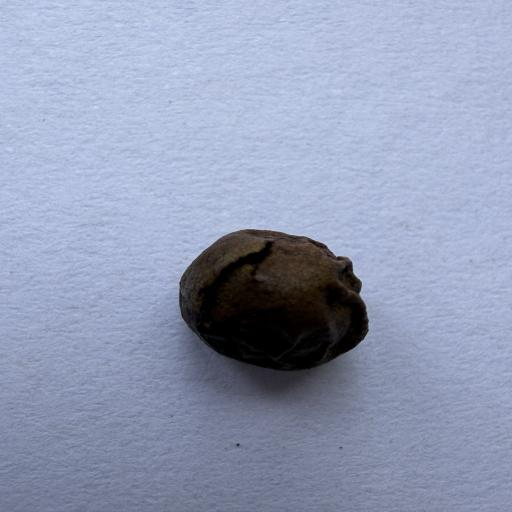Black_pepper: (154, 204, 383, 390)
